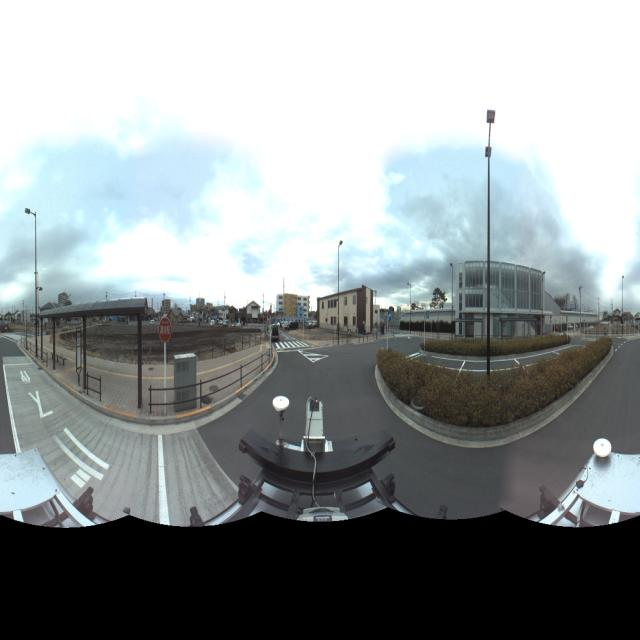b_1: (447, 250, 554, 339), (317, 283, 379, 346), (271, 284, 319, 330)
